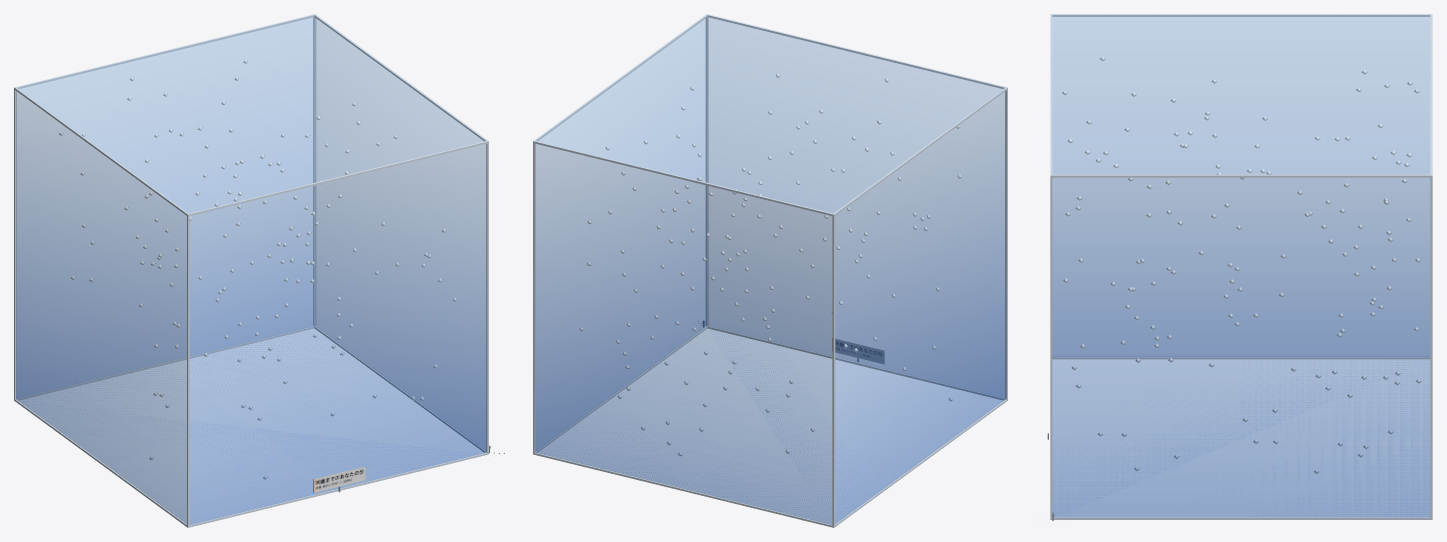
The model's file is cube_life_96.glb.
3 views of the same model, side by side, from view 1: azimuth 30°, elevation 25°; view 2: azimuth 150°, elevation 25°; view 3: azimuth 270°, elevation 25° (orthographic). The views are drawn at different scales.
Visible parts, largest first — view 1: co2, edge, dots, label; view 2: co2, edge, dots, label; view 3: co2, edge, dots.
Boxes of the visible parts, box(x1,y1,x2,y2) form: co2: box(16, 15, 486, 524); edge: box(14, 14, 488, 527); dots: box(59, 59, 456, 479); label: box(313, 466, 365, 492); co2: box(535, 15, 1005, 524); edge: box(533, 14, 1007, 527); dots: box(579, 73, 961, 456); label: box(835, 339, 884, 363); co2: box(1052, 15, 1430, 517); edge: box(1050, 14, 1432, 519); dots: box(1062, 56, 1421, 473).
Bounding box in the file's own units: 71.84 × 68.07 × 70.94.
8 materials, 3 textured.
